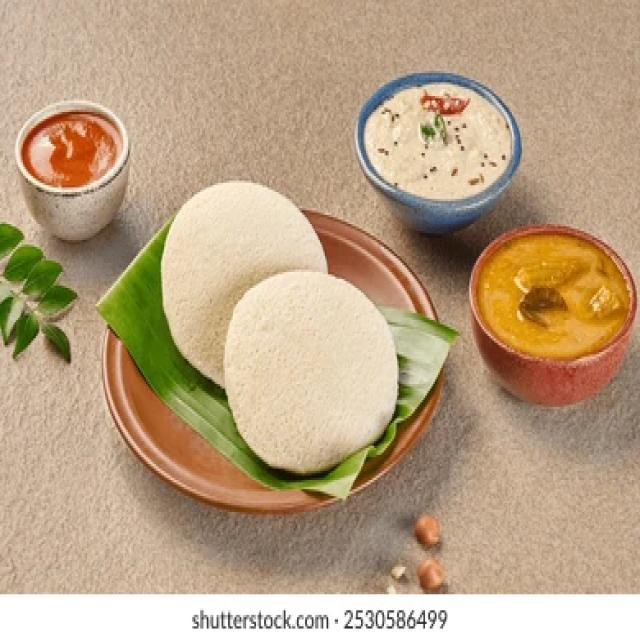IDLI: (223, 270, 397, 471), (162, 181, 327, 384)
